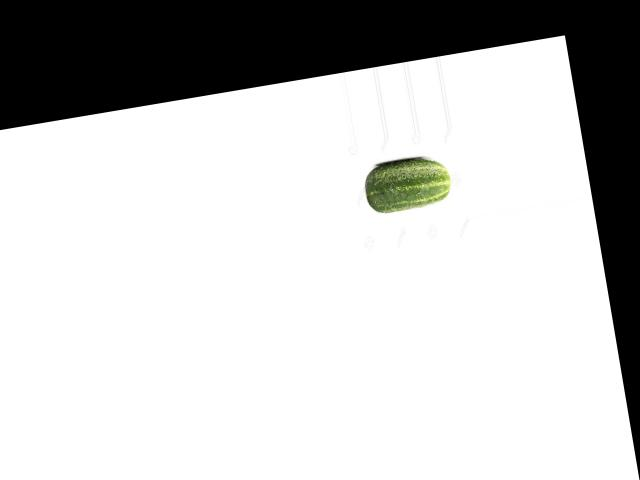cucumber: (360, 152, 453, 215)
